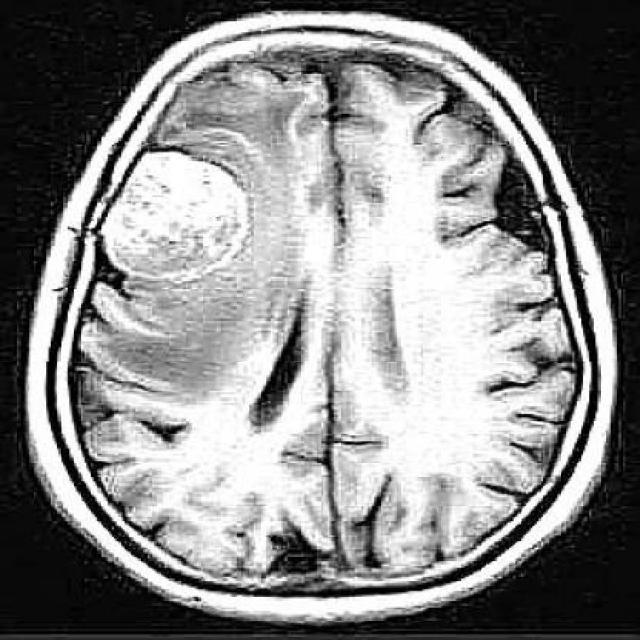Brain-Tumor: (96, 136, 264, 294)
